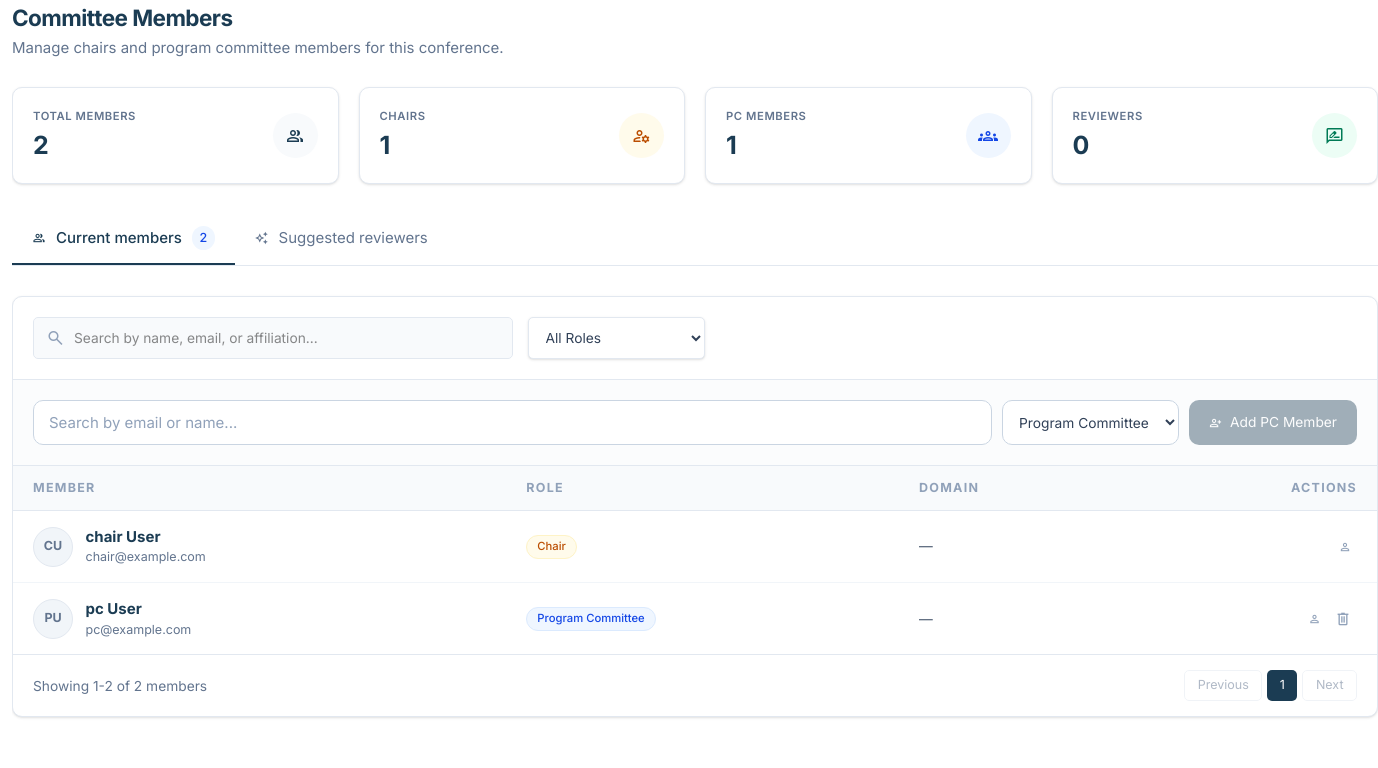
Test: ConferenceCommittee — Add Member search dropdown match evidence › excludes users who are already on the committee
This screenshot has width=1378, height=768.
Select "Reviewer" in the 2nd dropdown. click: (1090, 423)
box: top-left (1002, 400), bottom-right (1178, 445)
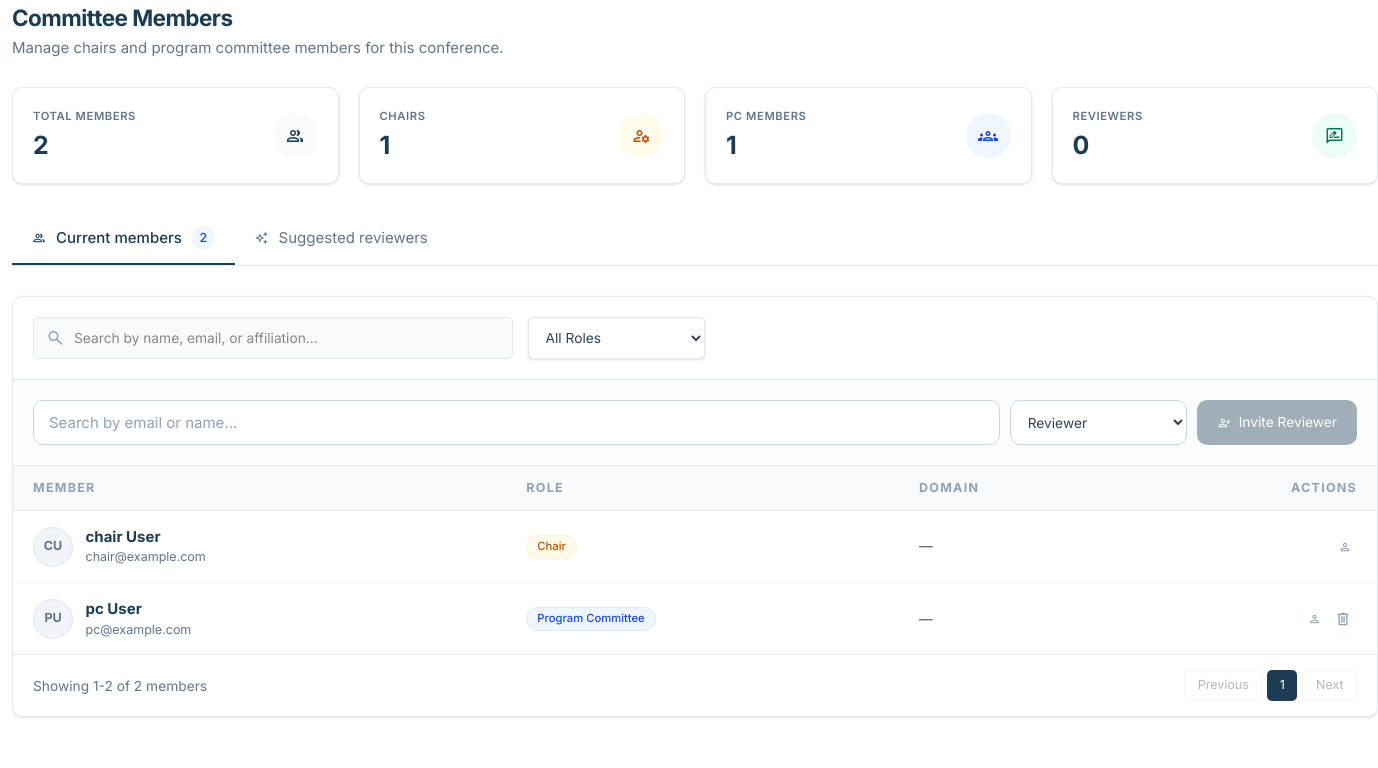
Type "@example.com" into the field with placeholder "Search by email or name...". click: (517, 423)
box: top-left (33, 400), bottom-right (1000, 445)
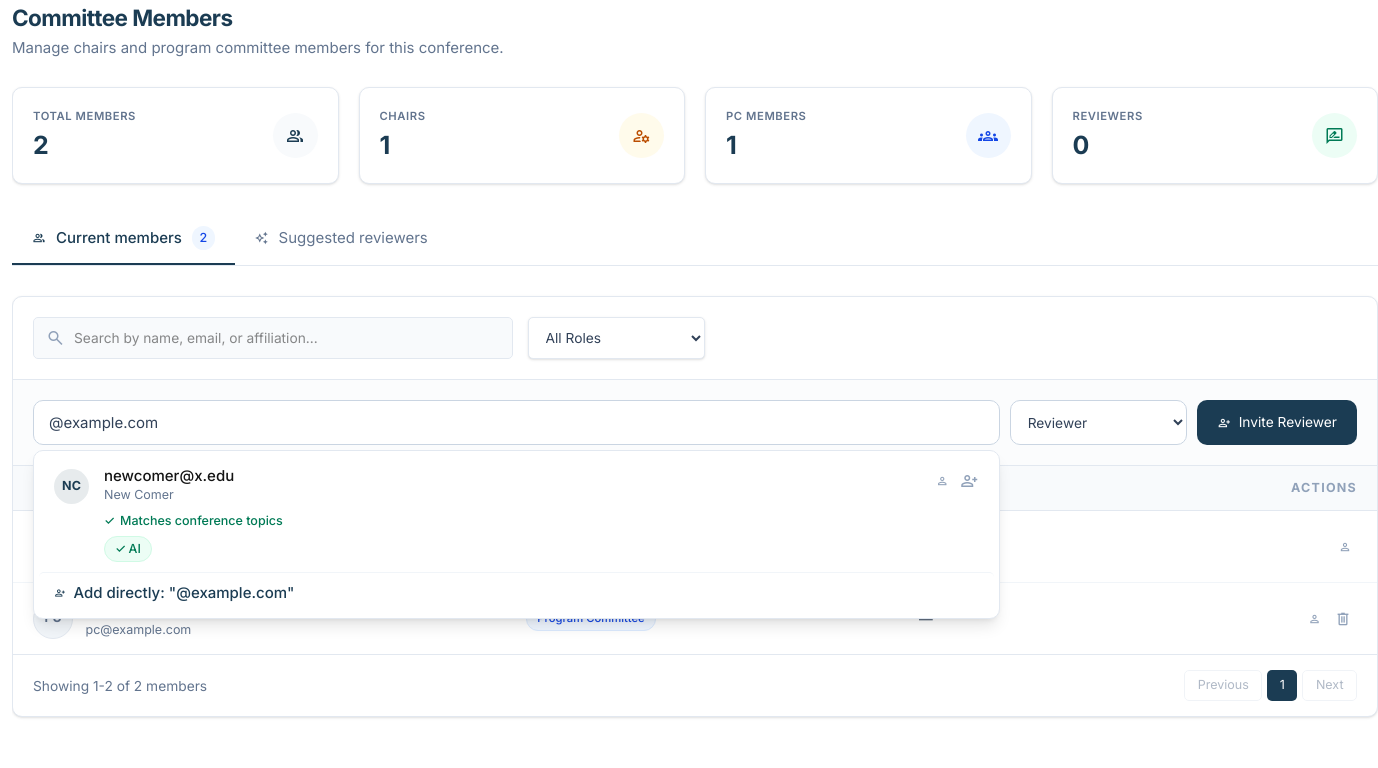
expect the text "newcomer@x.edu" is shown: met, box top-left (104, 466), bottom-right (234, 485)
